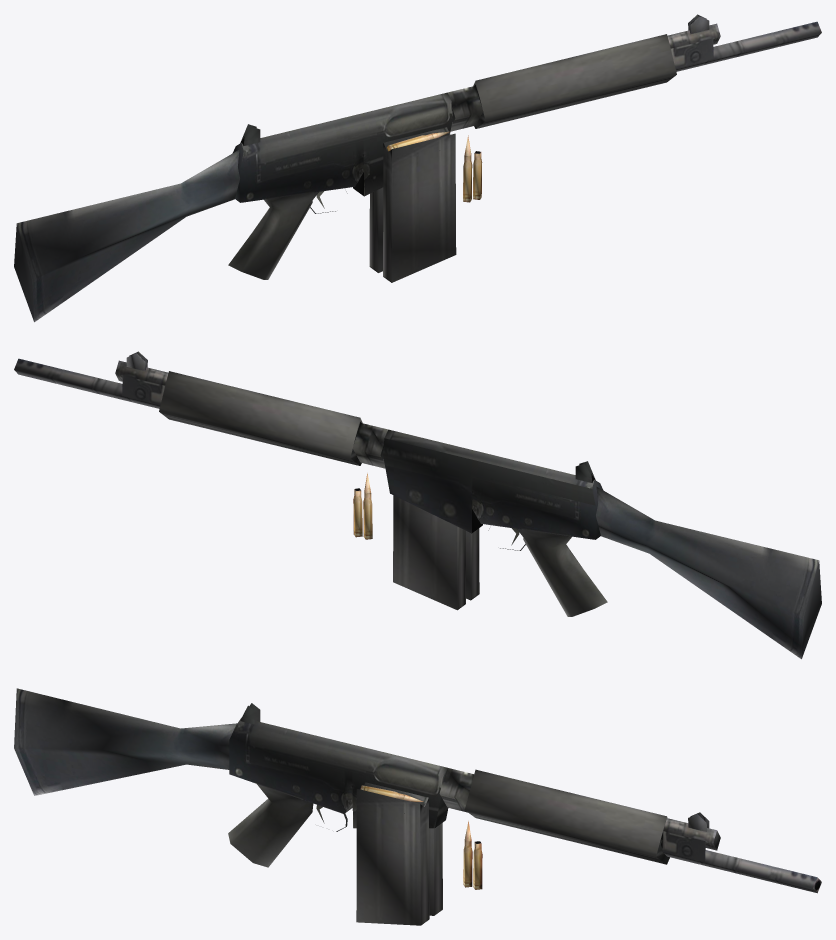
The picture shows the model from 3 angles, top to bottom: view 1: azimuth 30°, elevation 25°; view 2: azimuth 150°, elevation 25°; view 3: azimuth 330°, elevation 25°; orthographic projection.
Visible parts, largest first — view 1: FAL, FAL_Magazene.Full, FAL_Magazene; view 2: FAL, FAL_Magazene, FAL_Magazene.Full; view 3: FAL, FAL_Magazene.Full, FAL_Magazene, 308_Bullet, 308_Bullet.empty.
Boxes of the visible parts, x1,y1,x2,y2 form: FAL: (14,14,821,322); FAL_Magazene.Full: (383,127,456,282); FAL_Magazene: (369,187,383,272); FAL: (14,351,821,659); FAL_Magazene: (393,495,465,610); FAL_Magazene.Full: (466,528,479,600); FAL: (14,688,821,893); FAL_Magazene.Full: (356,782,429,925); FAL_Magazene: (429,823,442,915); 308_Bullet: (463,821,472,887); 308_Bullet.empty: (473,841,482,889).
Bounding box in the file's own units: 4.73 × 0.9914 × 0.2879.
3 materials, 3 textured.
